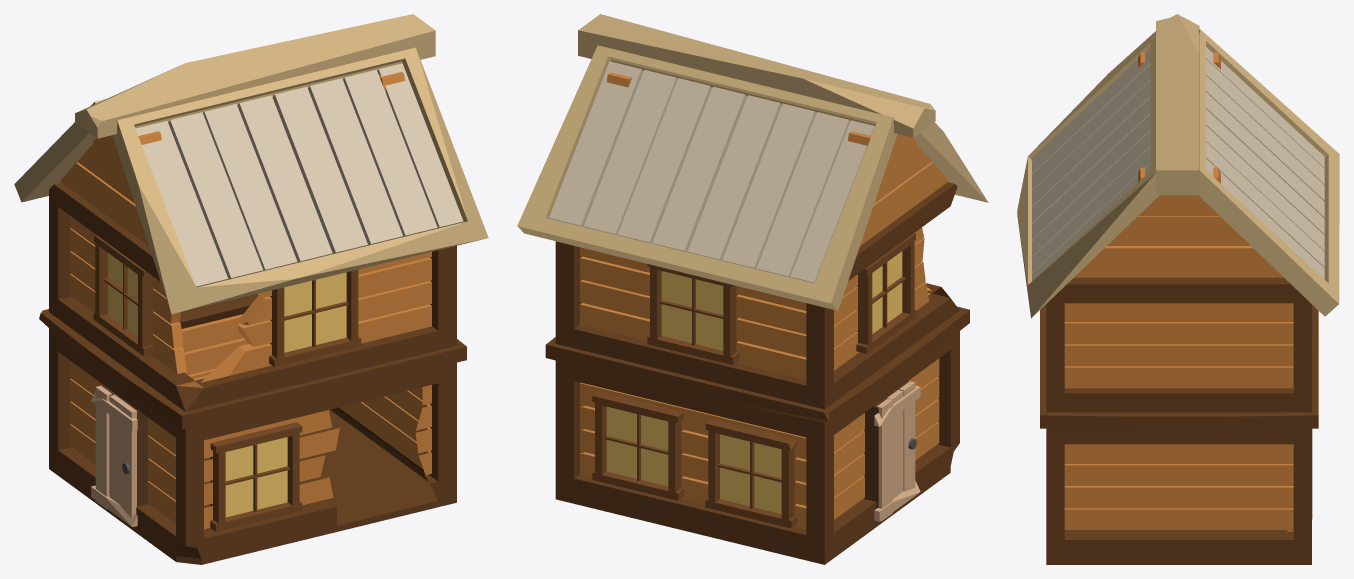
File: RUIN_HOUSE.fbx
3 renders of one model, left to right at view 1: azimuth 30°, elevation 25°; view 2: azimuth 150°, elevation 25°; view 3: azimuth 270°, elevation 25°, orthographic. The views are drawn at different scales.
Visible parts, largest first — view 1: Cube.195; view 2: Cube.195; view 3: Cube.195.
Boxes of the visible parts, x1,y1,x2,y2 form: Cube.195: (14, 14, 488, 564); Cube.195: (517, 14, 988, 564); Cube.195: (1017, 14, 1339, 564).
Bounding box in the file's own units: 2344 × 2842 × 1989.
